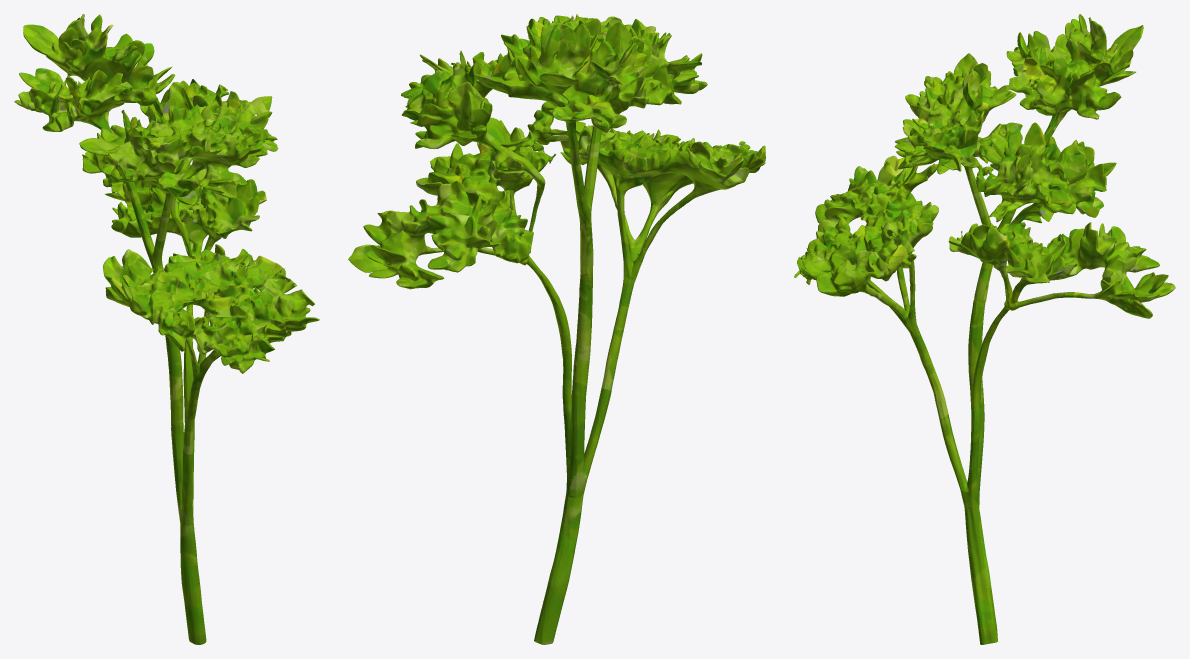
The model's file is parsley.glb.
The picture shows the model from 3 angles, left to right: view 1: azimuth 30°, elevation 25°; view 2: azimuth 150°, elevation 25°; view 3: azimuth 270°, elevation 25°; orthographic projection. The views are drawn at different scales.
Parts seen in each view (by area): view 1: tripo_node_79bd760d-6508-4fa5-bf61-31af8bb9e070; view 2: tripo_node_79bd760d-6508-4fa5-bf61-31af8bb9e070; view 3: tripo_node_79bd760d-6508-4fa5-bf61-31af8bb9e070.
Boxes of the visible parts, x1,y1,x2,y2 form: tripo_node_79bd760d-6508-4fa5-bf61-31af8bb9e070: [14, 14, 319, 644]; tripo_node_79bd760d-6508-4fa5-bf61-31af8bb9e070: [348, 14, 765, 644]; tripo_node_79bd760d-6508-4fa5-bf61-31af8bb9e070: [794, 14, 1175, 644].
Bounding box in the file's own units: 0.3971 × 1 × 0.5841.
1 material, 1 textured.
